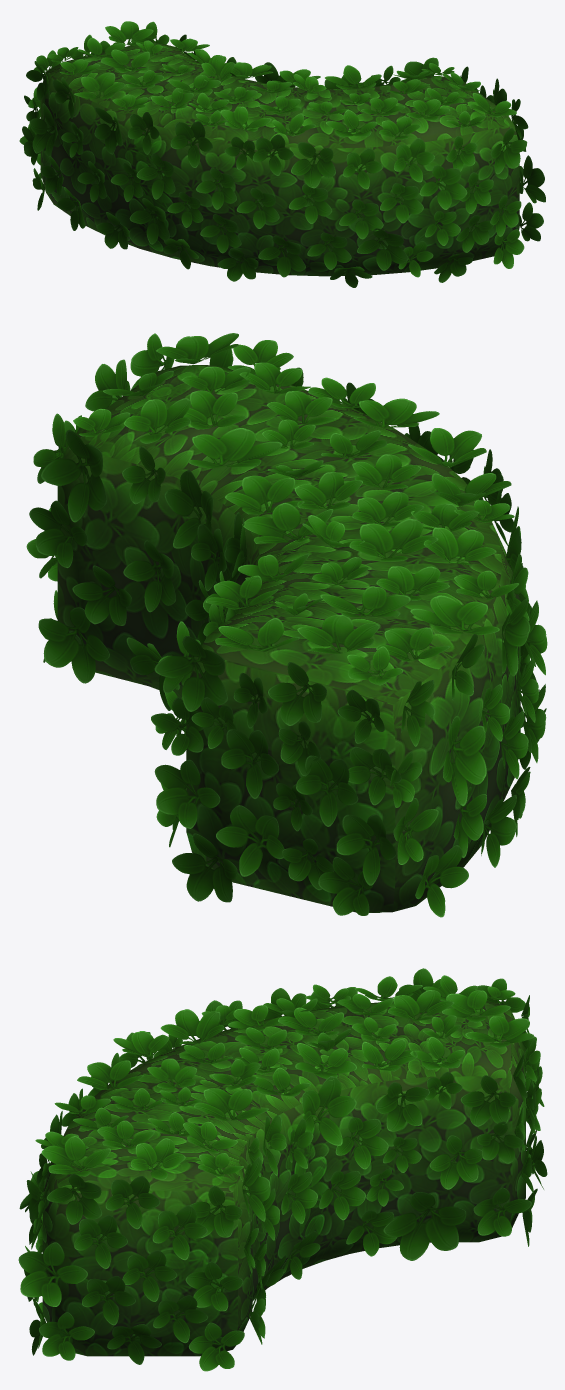
File: SE_Hedge_07.fbx
3 views of the same model, one above another, from view 1: azimuth 30°, elevation 25°; view 2: azimuth 150°, elevation 25°; view 3: azimuth 270°, elevation 25° (orthographic). The views are drawn at different scales.
Parts seen in each view (by area): view 1: SE_Hedge_07; view 2: SE_Hedge_07; view 3: SE_Hedge_07.
Boxes of the visible parts, bbox=[...] form: SE_Hedge_07: bbox=[19, 21, 545, 287]; SE_Hedge_07: bbox=[26, 333, 547, 917]; SE_Hedge_07: bbox=[18, 968, 547, 1371].
Bounding box in the file's own units: 5.52 × 2.68 × 5.61.
